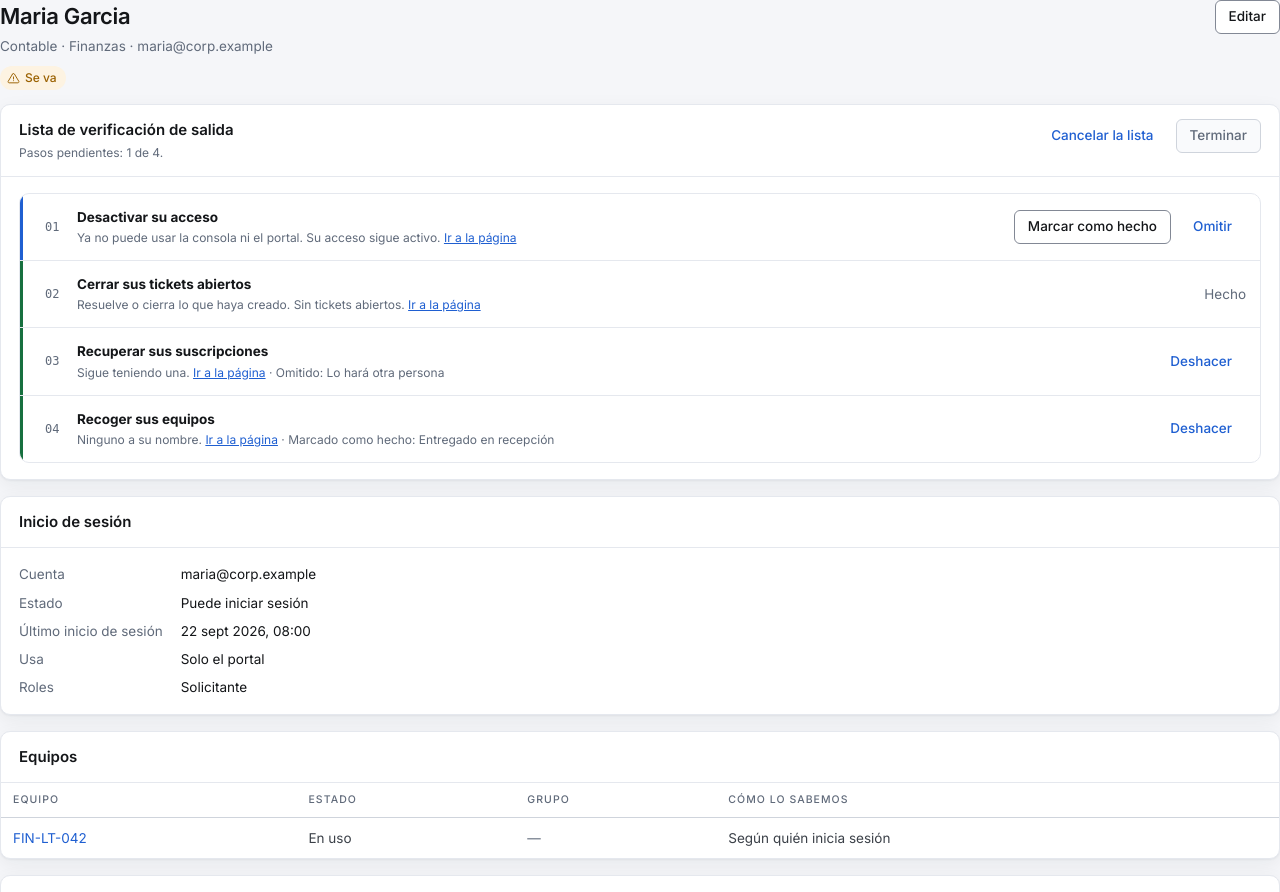
Test: the person page in Spanish › shows the open checklist, its steps and its confirmations
This screenshot has width=1280, height=892.
Expected: the heading "Lista de verificación de salida" is shown, [19,119,234,142]
Expected: the text "Se va" is shown, [0,66,66,90]
Click the button "Cancelar la lista".
click(1102, 136)  # box [1037,119,1168,153]
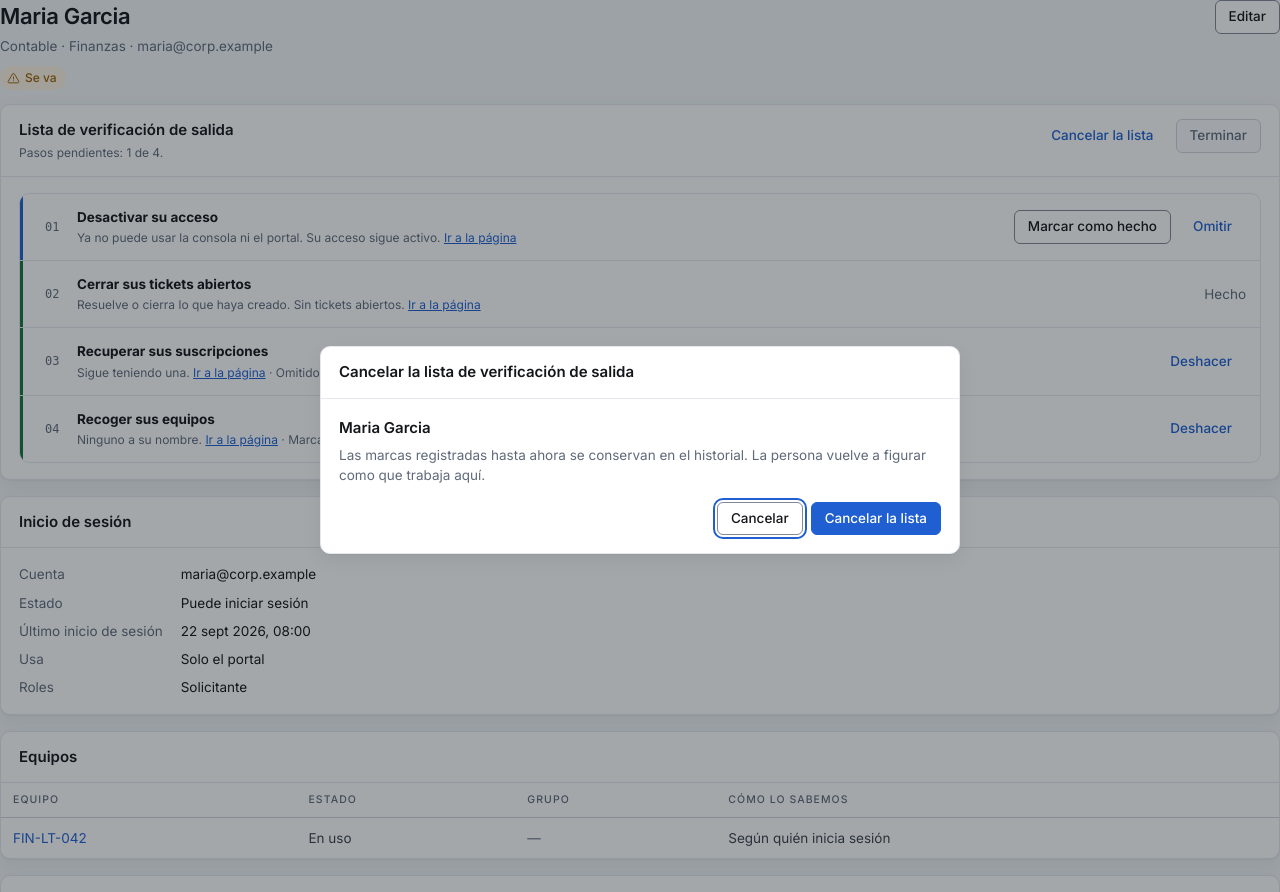
Expected: the heading "Cancelar la lista de verificación de salida" is shown, [339,361,634,384]
Expected: the text "Las marcas registradas hasta ahora" is shown, [339,447,926,483]
